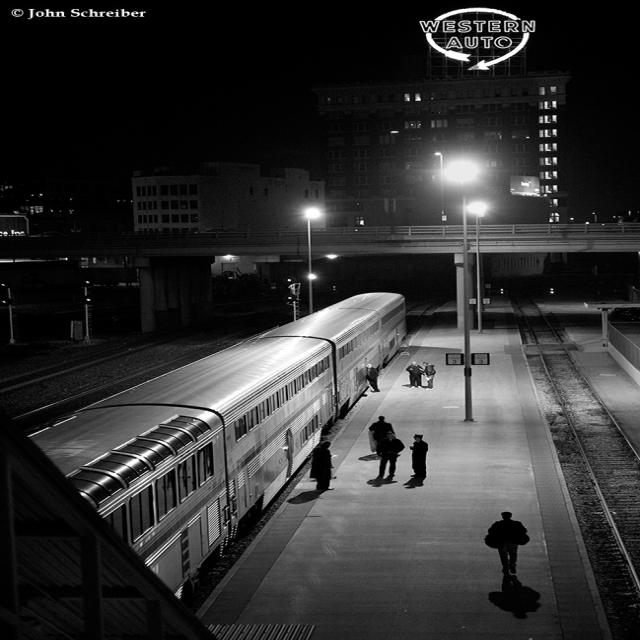body: (480, 566, 551, 624), (481, 508, 533, 576), (372, 430, 405, 482), (308, 439, 336, 493), (367, 415, 396, 456), (308, 440, 334, 482), (408, 433, 431, 480), (364, 473, 427, 490), (286, 488, 326, 505), (404, 361, 424, 388), (365, 363, 381, 393), (422, 362, 438, 389)
